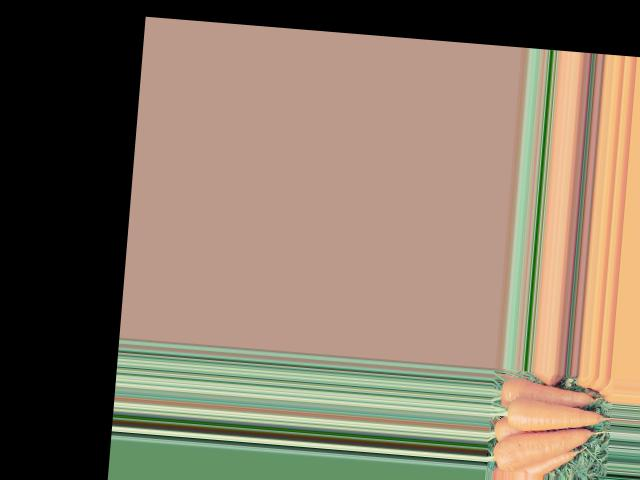carrot: (493, 419, 596, 474)
